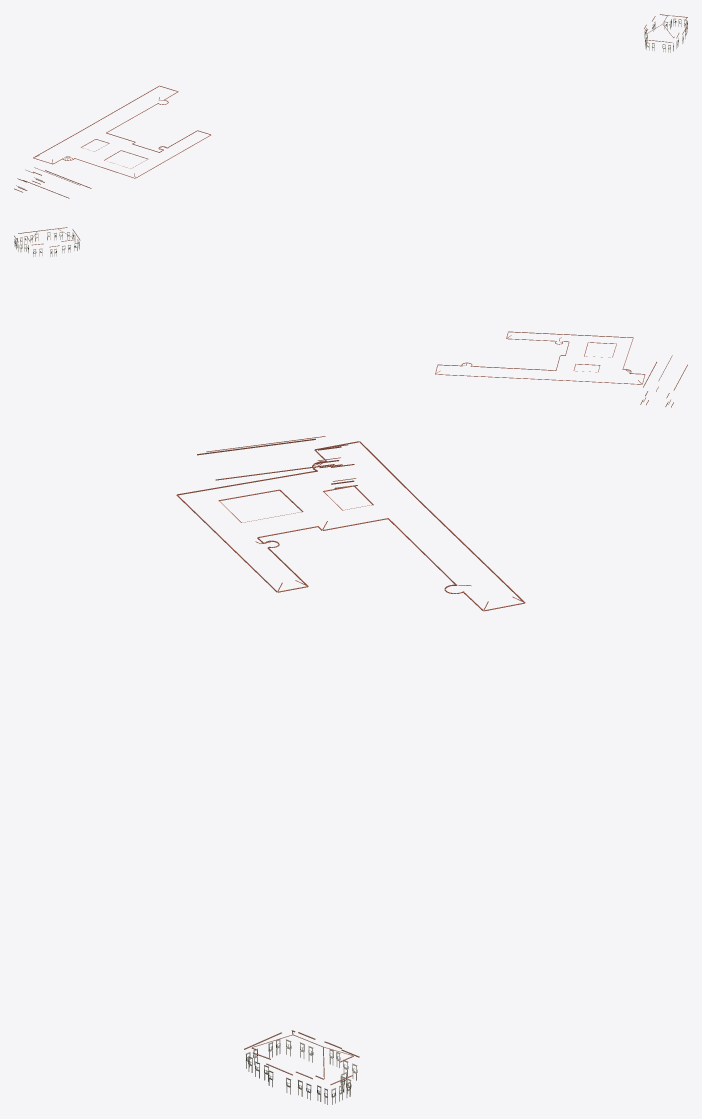
The picture shows the model from 3 angles, top to bottom: view 1: azimuth 30°, elevation 25°; view 2: azimuth 150°, elevation 25°; view 3: azimuth 270°, elevation 25°; orthographic projection. The views are drawn at different scales.
Visible parts, largest first — view 1: detail; view 2: detail; view 3: detail.
Part boxes in pixels (x1,y1,x2,y2): detail: (14, 14, 687, 198); detail: (14, 227, 687, 407); detail: (176, 436, 525, 1104).
Size of the model in its own units: 482 by 16.94 by 111.
